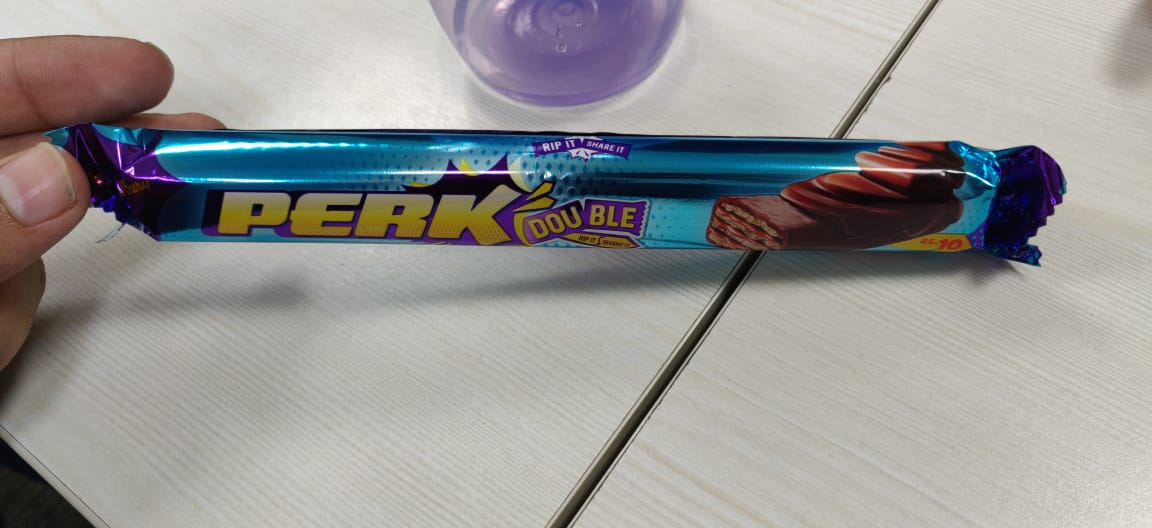perk: (44, 117, 1088, 288)
